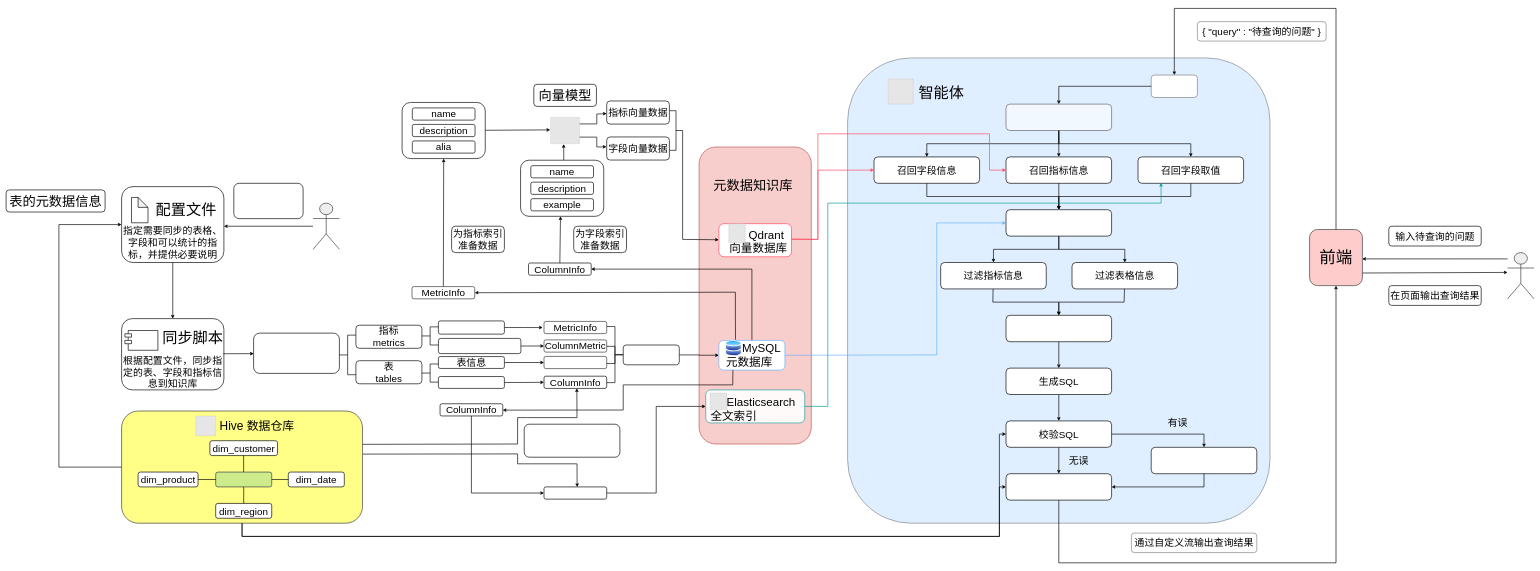
This 1540x571 diagram has some shape labels left out. Grey dashed boxes stand in for pictures. Here are the shapes that lost their labels. From the top down, the centre of each, then its label:
At (x=1174, y=86): "query".
At (x=1059, y=117): "抽取关键词".
At (x=268, y=201): "人为设置的指标信息".
At (x=326, y=226): "开发者".
At (x=1059, y=222): "合并召回信息".
At (x=1520, y=275): "用户".
At (x=141, y=340): "job".
At (x=471, y=327): "指标信息".
At (x=479, y=346): "指标关联字段信息".
At (x=1059, y=328): "额外添加上下文".
At (x=296, y=353): "元数据配置信息 meta_config".
At (x=575, y=362): "TableInfo".
At (x=651, y=355): "Mapper映射".
At (x=471, y=382): "字段信息".
At (x=572, y=440): "补充查询元数据信息".
At (x=1204, y=460): "校正SQL".
At (x=243, y=479): "fact_order".
At (x=575, y=492): "ValueInfo".
At (x=1059, y=486): "执行SQL".
